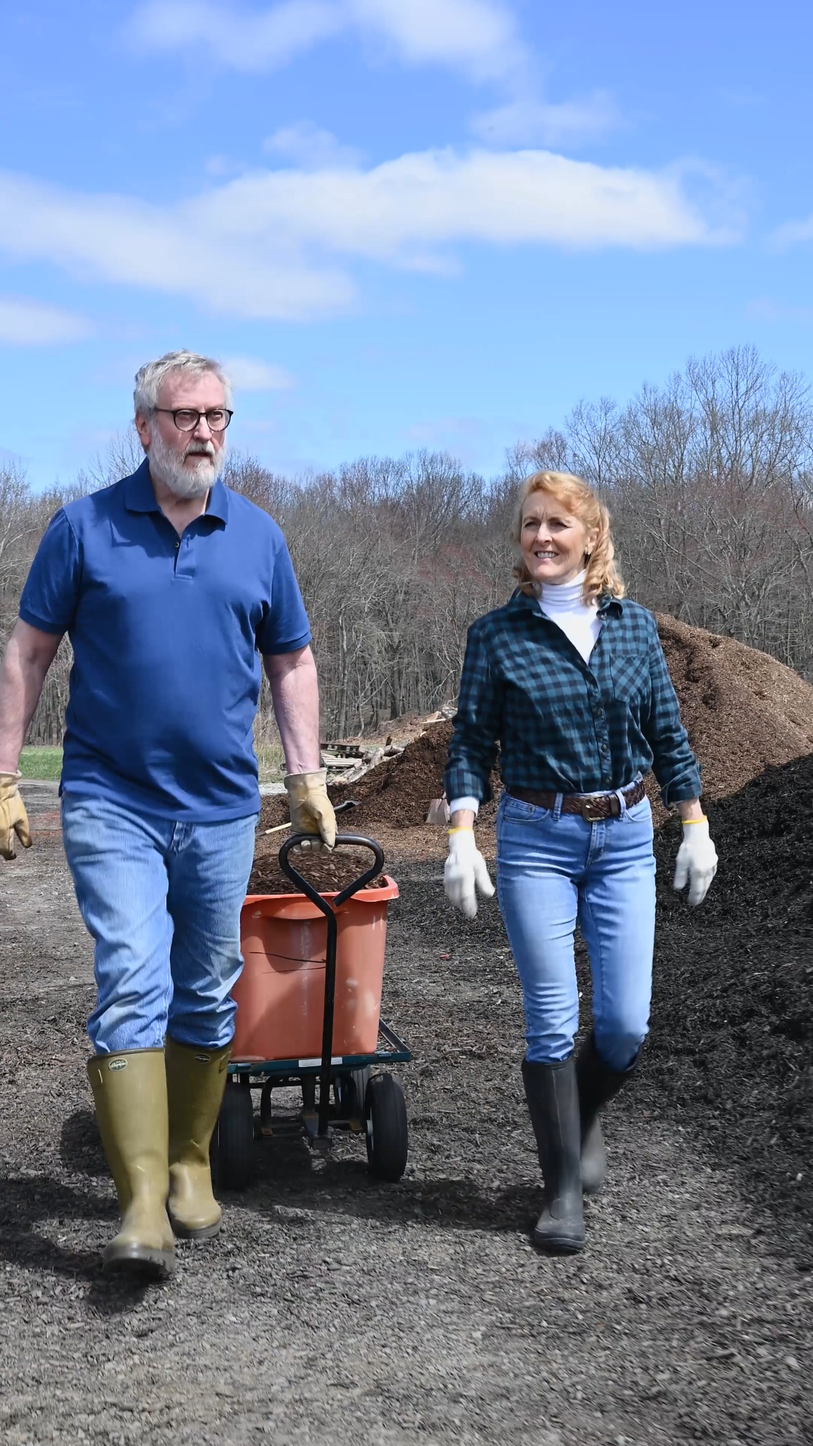gloves: (0, 751, 56, 892), (431, 817, 501, 923), (266, 761, 346, 853), (669, 803, 725, 911)
